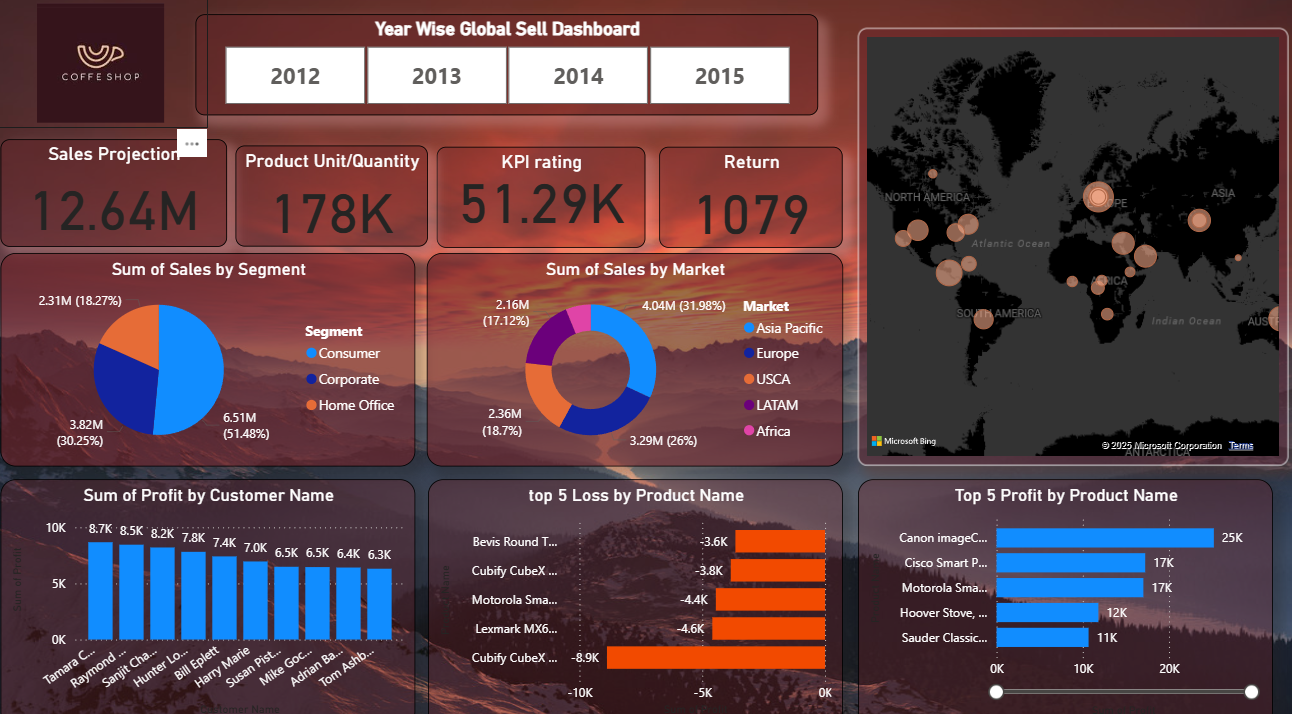

This screenshot's page, from the dashboard's own definition file:
{"tool":"powerbi","page":{"name":"Amazon_Dashboard","canvas":[1280,720],"ordinal":0},"visuals":[{"type":"slicer","title":"Year Wise Global Sell Dashboard","fields":{"Values":["Orders.Year"]},"box":[198.8,20.9,611,99.4],"z":0},{"type":"card","title":"Sales Projection","fields":{"Values":["Orders.Sales"]},"box":[7.4,143.6,222.1,105.5],"z":1000},{"type":"card","title":"KPI rating","fields":{"Values":["Orders.Sales/Quantity"]},"box":[435.6,150.9,204.9,99.4],"z":2000},{"type":"card","title":"Product Unit/Quantity","fields":{"Values":["Orders.Quantity"]},"box":[238,149.7,189,99.4],"z":3000},{"type":"card","title":"Return","fields":{"Values":["Returns.Returned","select","select1"]},"box":[654,150.9,180.4,99.4],"z":4000},{"type":"image","box":[0,4.9,211,127.6],"z":5000},{"type":"pieChart","fields":{"Category":["Orders.Segment"],"Y":["Orders.Sales"]},"box":[7.4,255.2,407.4,209.8],"z":6000},{"type":"donutChart","fields":{"Category":["Orders.Market"],"Y":["Orders.Sales"]},"box":[425.8,255.2,408.6,209.8],"z":7000},{"type":"columnChart","fields":{"Y":["Orders.Profit"],"Category":["Orders.Customer Name"]},"box":[7.4,477.3,407.4,242.9],"z":8000},{"type":"clusteredBarChart","title":"top 5 Loss  by Product Name","fields":{"Y":["Orders.Profit"],"Category":["Orders.Product Name"]},"box":[426.8,477.5,407.5,242.9],"z":9000},{"type":"clusteredBarChart","title":"Top 5  Profit by Product Name","fields":{"Y":["Orders.Profit"],"Category":["Orders.Product Name"]},"box":[849.4,477.5,407.5,242.9],"z":10000},{"type":"map","title":"Return","fields":{"Category":["Orders.Region"],"Size":["Orders.Sales"]},"box":[849.1,34.4,422.1,429.5],"z":11000}]}

Visuals, with their boxes in screenshot pixels (x1, y1, x2, y2), scaled from the page's 1280x720 canvas onto the 1292x714 screenshot:
"Year Wise Global Sell Dashboard" slicer: box=[201, 21, 817, 119]
"Sales Projection" card: box=[7, 142, 232, 247]
"KPI rating" card: box=[440, 150, 647, 248]
"Product Unit/Quantity" card: box=[240, 148, 431, 247]
"Return" card: box=[660, 150, 842, 248]
image: box=[0, 5, 213, 131]
pieChart - Orders.Segment x Orders.Sales: box=[7, 253, 419, 461]
donutChart - Orders.Market x Orders.Sales: box=[430, 253, 842, 461]
columnChart - Orders.Profit x Orders.Customer Name: box=[7, 473, 419, 713]
"top 5 Loss  by Product Name" clusteredBarChart: box=[431, 474, 842, 713]
"Top 5  Profit by Product Name" clusteredBarChart: box=[857, 474, 1269, 713]
"Return" map: box=[857, 34, 1283, 460]
